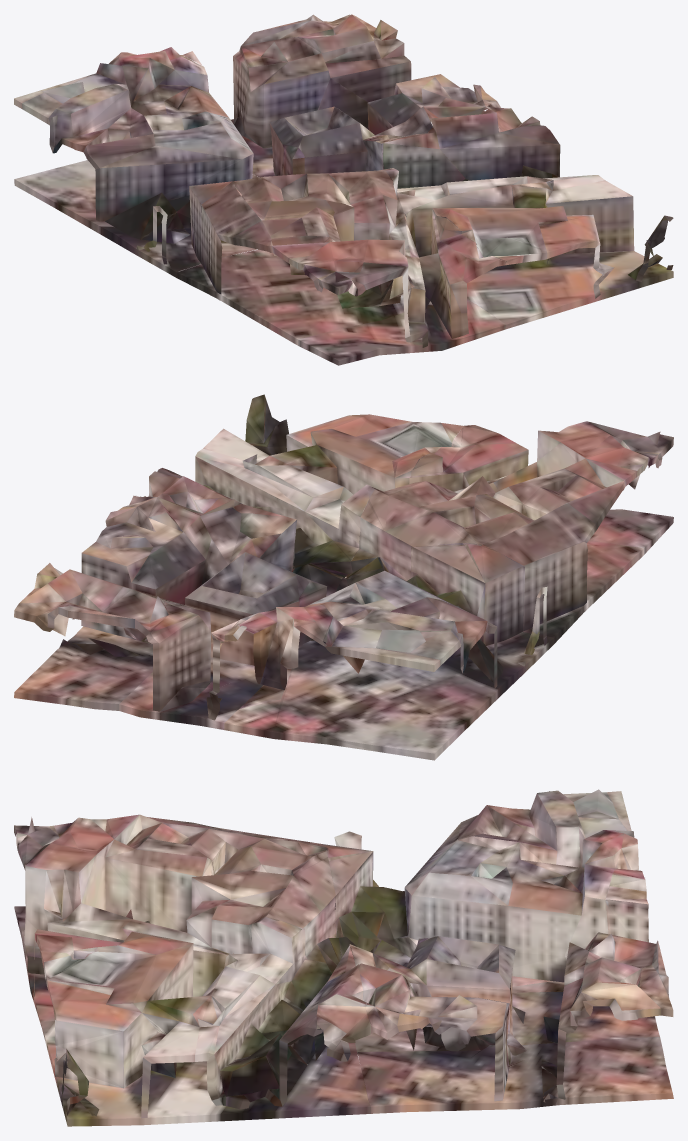
3 views of the same model, one above another, from view 1: azimuth 30°, elevation 25°; view 2: azimuth 150°, elevation 25°; view 3: azimuth 270°, elevation 25° (orthographic). The views are drawn at different scales.
Visible parts, largest first — view 1: Mesh_0; view 2: Mesh_0; view 3: Mesh_0.
Boxes of the visible parts, x1,y1,x2,y2 form: Mesh_0: [14, 14, 673, 365]; Mesh_0: [14, 394, 673, 760]; Mesh_0: [14, 789, 673, 1126].
Size of the model in its own units: 133 by 36.51 by 165.
Materials: 1 (1 with a texture image).
